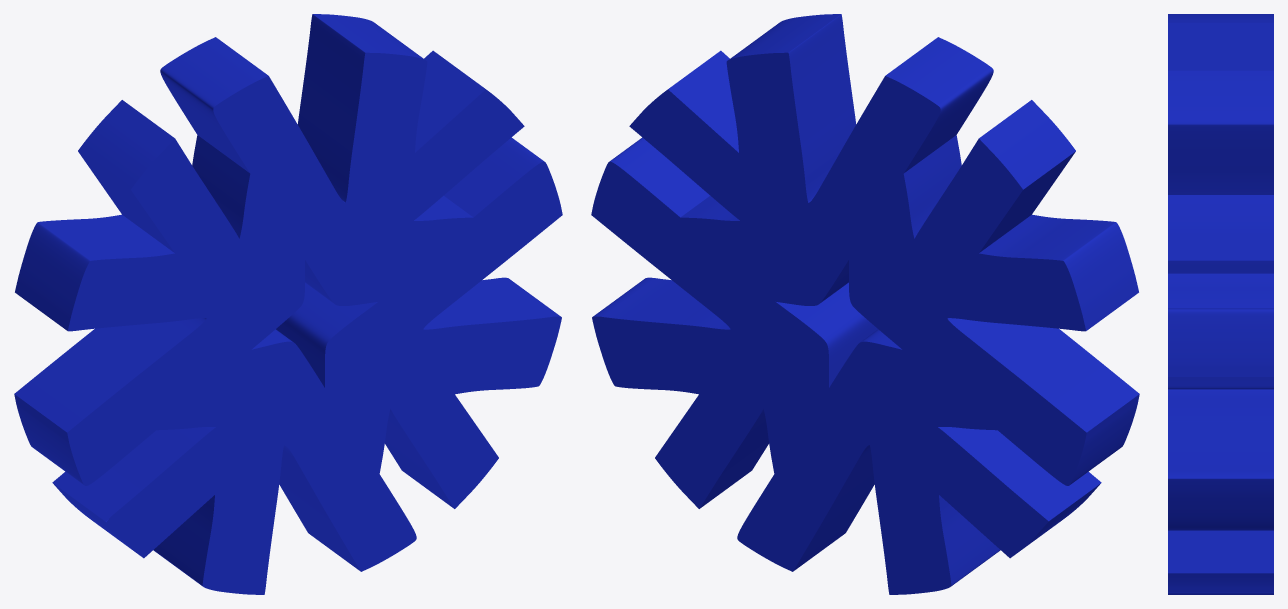
The model's file is chatmodel.glb.
3 views of the same model, side by side, from view 1: azimuth 30°, elevation 25°; view 2: azimuth 150°, elevation 25°; view 3: azimuth 270°, elevation 25° (orthographic).
Visible parts, largest first — view 1: Curve; view 2: Curve; view 3: Curve.
Boxes of the visible parts, bbox=[...] form: Curve: bbox=[14, 14, 562, 594]; Curve: bbox=[591, 14, 1139, 594]; Curve: bbox=[1168, 14, 1273, 594].
Bounding box in the file's own units: 7.61 × 7.62 × 1.41.
